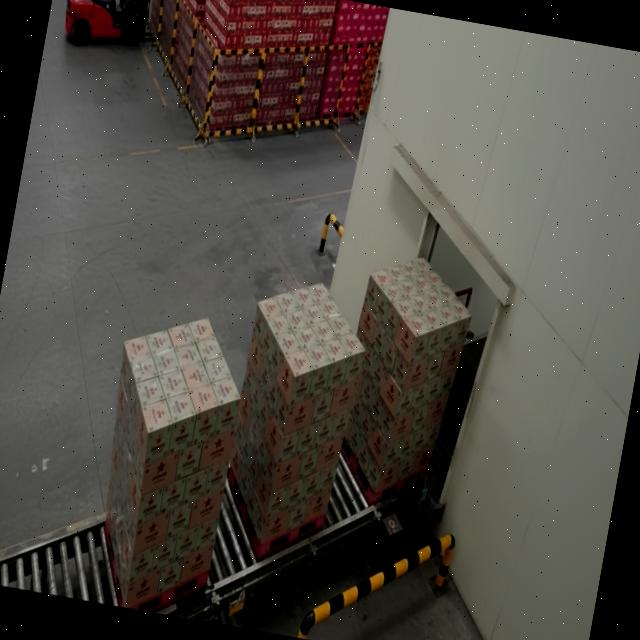pallet: (68, 296, 262, 624), (212, 262, 378, 586), (326, 244, 486, 528)
